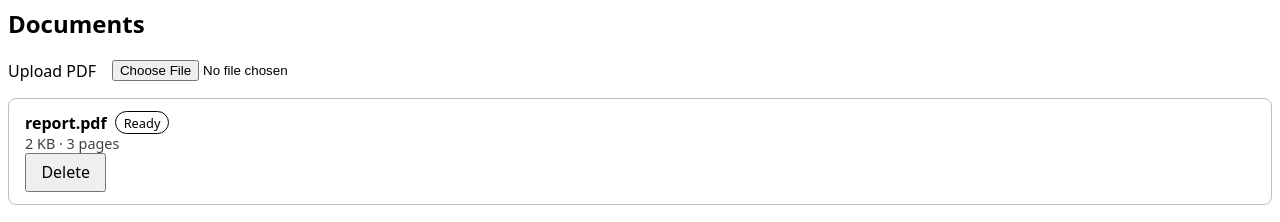
Test case: Documents › deletes a document after confirmation
This screenshot has width=1280, height=222.
Click the button with aria-label "Delete report.pdf" at (66, 172), box [25,153,106,192]
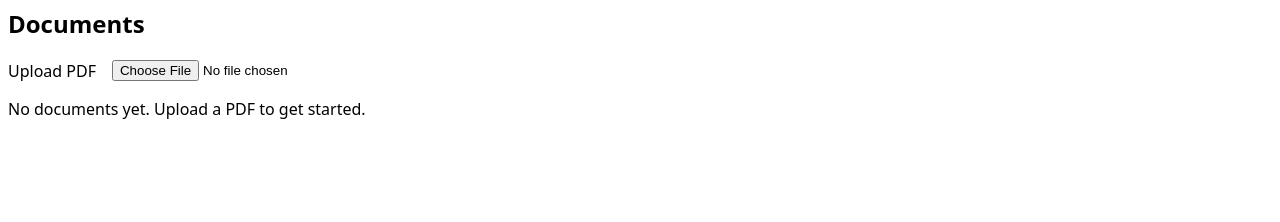
Expected: the text "report.pdf" is gone
Expected: the text "No documents yet. Upload a PDF to get started." is shown, [8,98,366,120]
